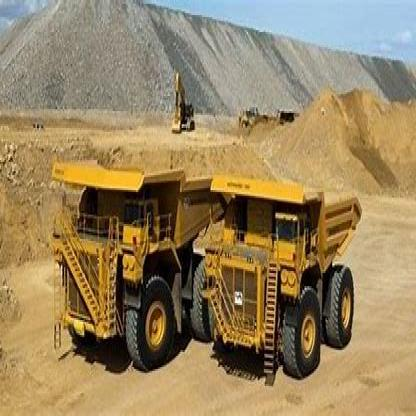dump_truck: (42, 145, 210, 375), (211, 170, 367, 376)
